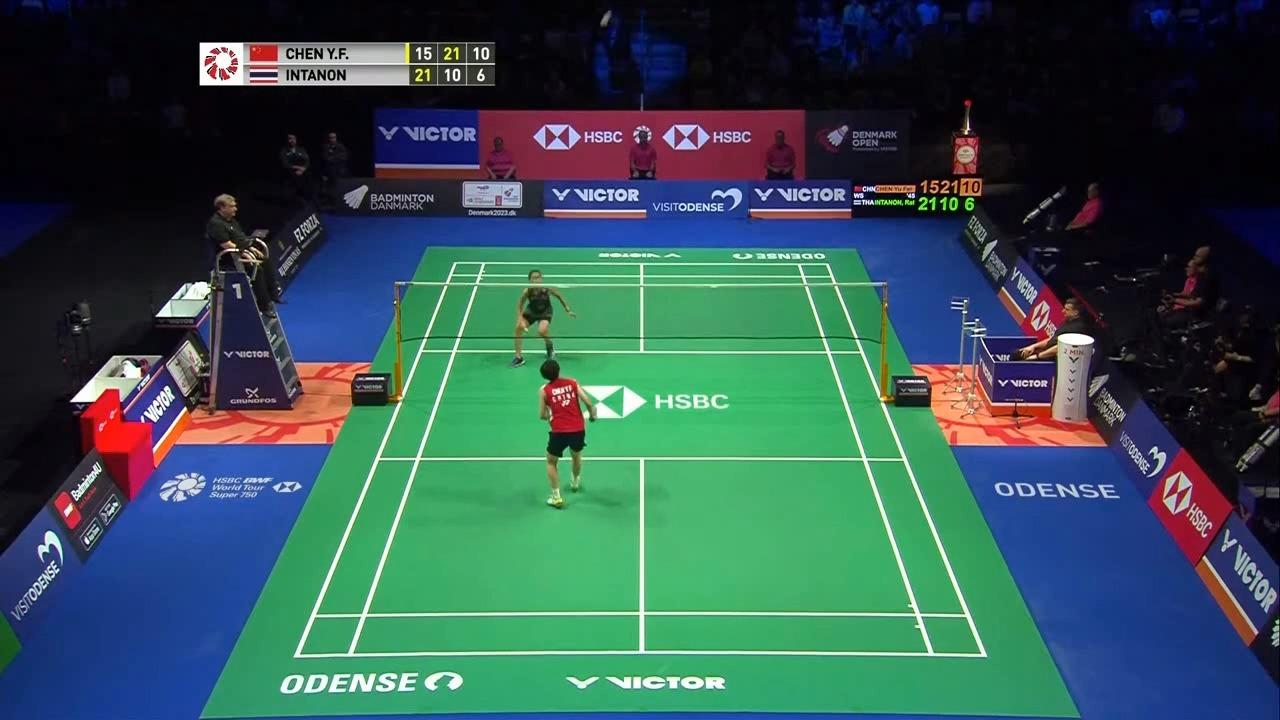shuttle: (597, 9, 616, 28)
